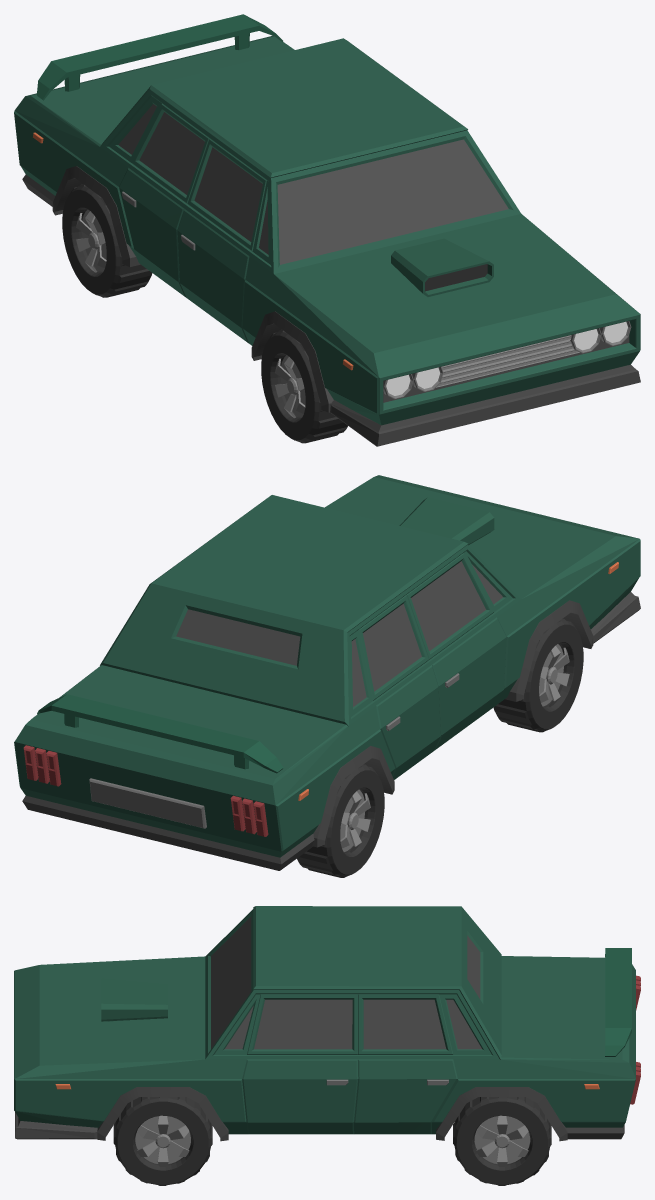
The model's file is muscle.glb.
3 renders of one model, top to bottom at view 1: azimuth 30°, elevation 25°; view 2: azimuth 150°, elevation 25°; view 3: azimuth 270°, elevation 25°, orthographic. The views are drawn at different scales.
Visible parts, largest first — view 1: body, wheel_rear_L, wheel_front_L; view 2: body, wheel_front_L, wheel_rear_L; view 3: body, wheel_front_R, wheel_rear_R.
Boxes of the visible parts, x1,y1,x2,y2 form: body: (14,14,640,446); wheel_rear_L: (62,184,152,297); wheel_front_L: (261,329,347,443); body: (14,475,640,870); wheel_front_L: (493,618,583,732); wheel_rear_L: (297,764,384,877); body: (14,906,640,1141); wheel_front_R: (113,1097,212,1185); wheel_rear_R: (453,1097,551,1185).
Size of the model in its own units: 2 by 1.54 by 4.71.
1 material, 1 textured.
